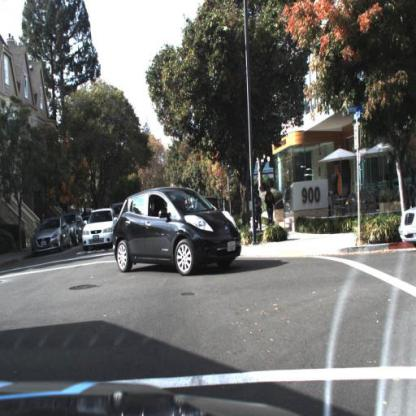car: (110, 186, 242, 272), (81, 207, 117, 252), (33, 218, 71, 253), (70, 211, 85, 250), (179, 202, 190, 228)
